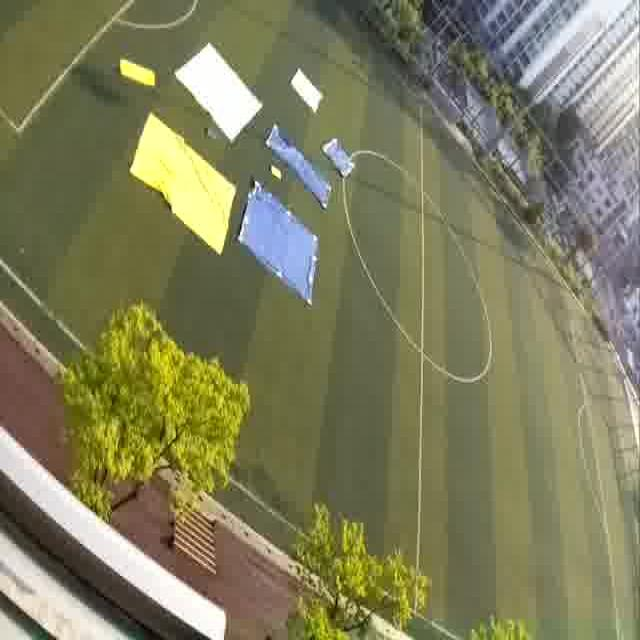danger: (242, 185, 301, 291), (287, 139, 317, 194), (323, 135, 356, 180)
safety: (175, 44, 266, 129), (289, 64, 328, 121)
warning: (139, 126, 214, 227), (116, 54, 161, 96)
